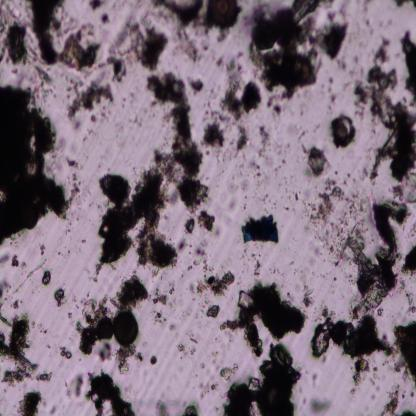Background material: (0, 81, 80, 252), (248, 0, 346, 104), (96, 155, 178, 273), (146, 71, 209, 212), (360, 38, 416, 183), (338, 188, 400, 314), (219, 280, 306, 358), (220, 343, 302, 416), (29, 0, 99, 75), (314, 306, 394, 363), (101, 19, 170, 82), (152, 0, 212, 63), (216, 52, 266, 124), (0, 314, 43, 386), (85, 368, 136, 416), (74, 290, 110, 357), (65, 81, 115, 123), (0, 9, 30, 71), (391, 320, 416, 391), (200, 103, 231, 156), (308, 181, 342, 229), (113, 275, 152, 313), (399, 30, 416, 105), (14, 258, 48, 294), (330, 112, 357, 153), (195, 268, 234, 296), (349, 70, 369, 123), (347, 354, 371, 396), (397, 171, 416, 222), (115, 342, 144, 374), (317, 226, 341, 264), (33, 62, 55, 100), (304, 146, 329, 179), (298, 245, 320, 282), (234, 122, 254, 161), (194, 233, 213, 273), (153, 288, 172, 326), (18, 388, 43, 416), (258, 124, 276, 162), (359, 0, 373, 48), (381, 383, 401, 416), (401, 241, 416, 281), (308, 395, 335, 416), (176, 333, 198, 358), (66, 371, 85, 399), (198, 208, 216, 236), (0, 273, 12, 309), (302, 283, 317, 310), (220, 361, 239, 382), (402, 290, 416, 318), (155, 399, 178, 416), (198, 378, 219, 396), (97, 341, 114, 362), (327, 73, 338, 104), (350, 55, 366, 76), (184, 216, 200, 236), (52, 287, 68, 307), (206, 354, 219, 378), (216, 27, 233, 45), (188, 76, 204, 95), (175, 236, 190, 256), (206, 302, 222, 319), (36, 371, 54, 386), (336, 53, 350, 72), (10, 251, 26, 267), (252, 254, 262, 279), (182, 402, 198, 416), (252, 160, 262, 182), (59, 344, 73, 359), (90, 0, 106, 13), (100, 10, 112, 27), (42, 268, 52, 286), (311, 371, 320, 391), (389, 0, 416, 6), (38, 244, 48, 257), (38, 321, 47, 335), (11, 299, 22, 310), (401, 408, 416, 416), (1, 253, 10, 265), (149, 355, 158, 366), (48, 404, 56, 416), (166, 323, 176, 331), (294, 190, 300, 201)
Diatom: (113, 310, 140, 348), (206, 0, 240, 27), (252, 16, 276, 50), (96, 318, 112, 339)
Fragment: (240, 213, 283, 245)
